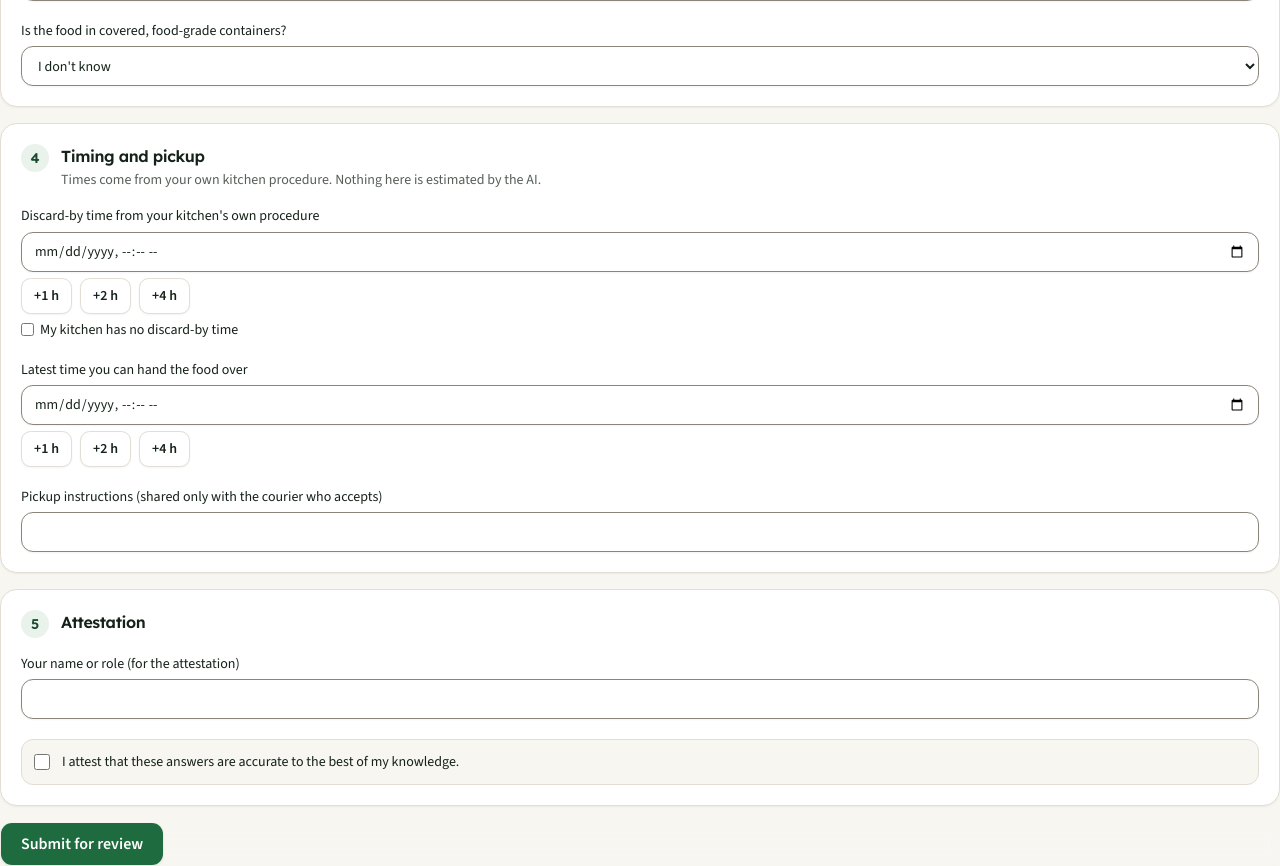
Scenario: required fields and states › blocks submit and lists what is missing
(page scrolled)
Step 1. Click the button "Submit for review" → (82, 844), box [0, 822, 164, 865]
(page scrolled)
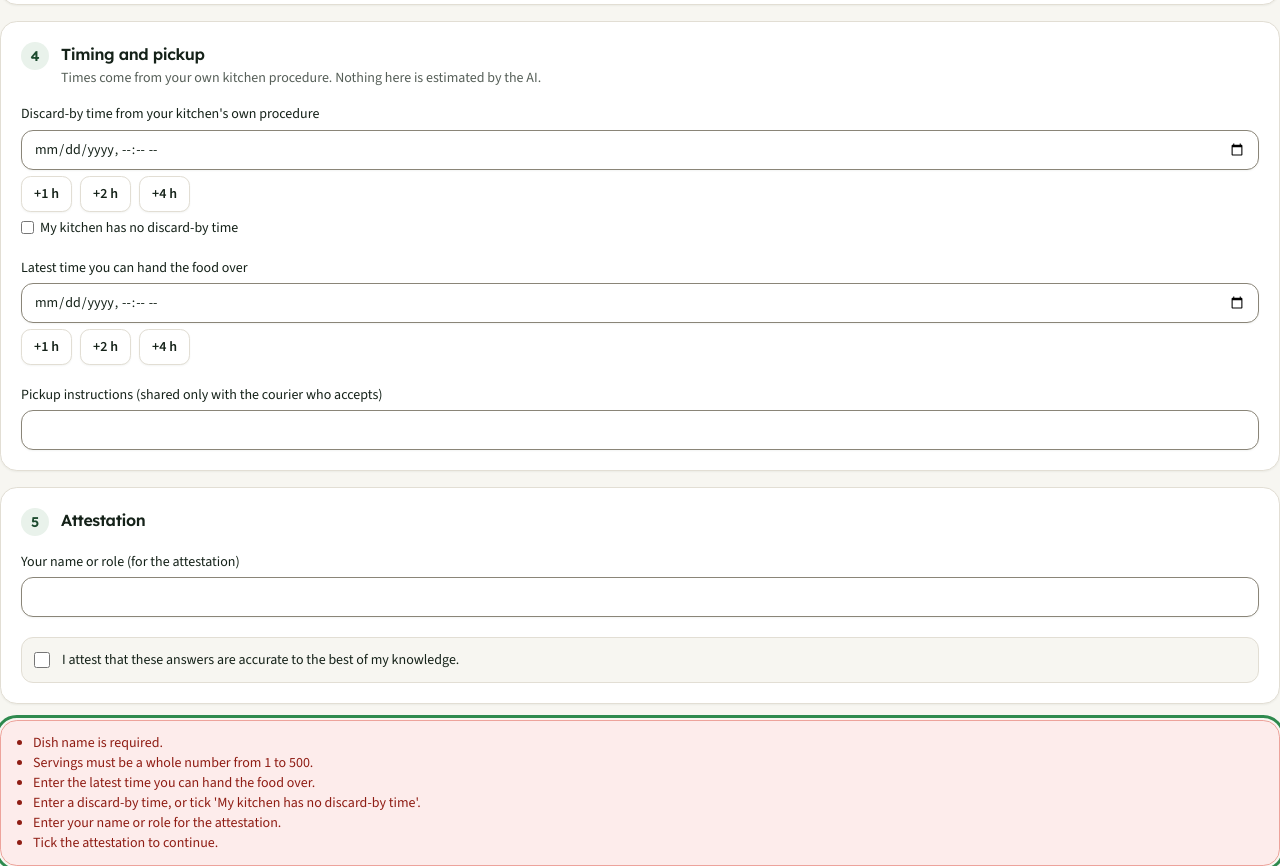
Check: the message shows "Dish name", box [33, 733, 163, 752]
Check: the message shows "Servings", box [33, 753, 313, 772]
Check: the message shows "hand the food over", box [33, 773, 315, 792]
